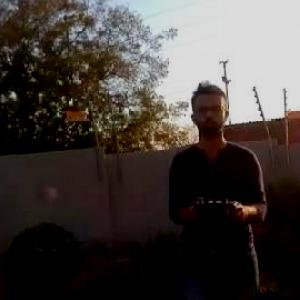follow: (166, 69, 274, 299)
